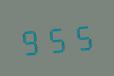five: (44, 21, 68, 54), (69, 19, 93, 52)
nine: (18, 23, 42, 57)
